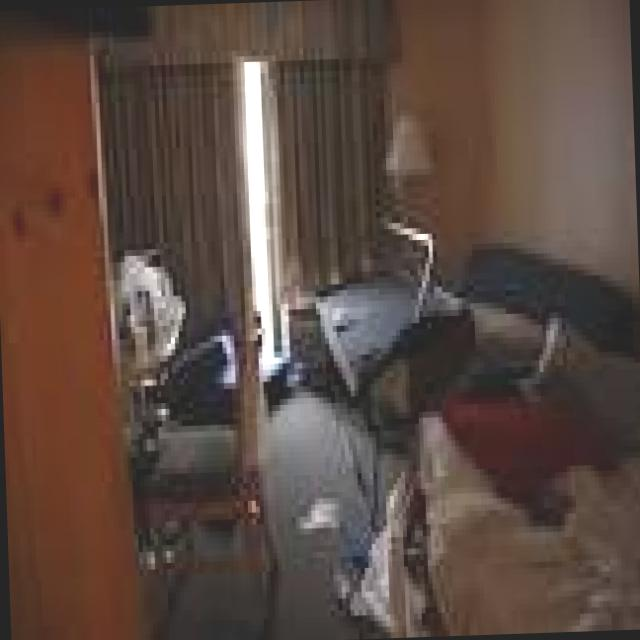mess: (388, 404, 640, 637), (442, 252, 614, 404), (288, 407, 400, 632), (106, 255, 182, 394)
